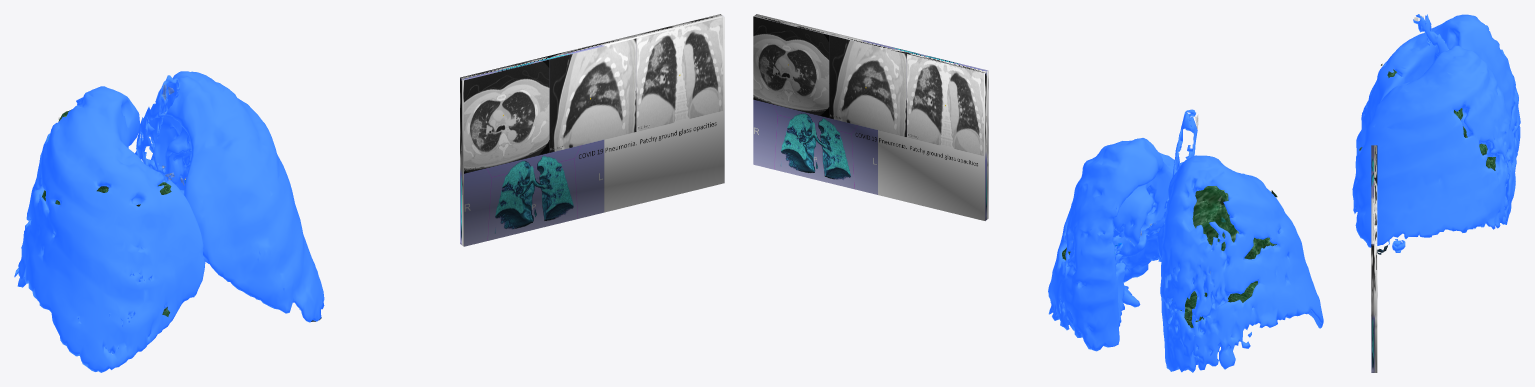
File: lungCTScan.glb
3 views of the same model, side by side, from view 1: azimuth 30°, elevation 25°; view 2: azimuth 150°, elevation 25°; view 3: azimuth 270°, elevation 25° (orthographic). The views are drawn at different scales.
Bounding box in the file's own units: 686 × 253 × 197.
5 materials, 3 textured.
